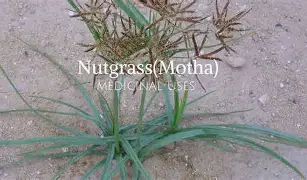weed: (75, 90, 273, 180), (71, 0, 250, 64)
